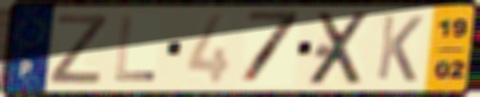4: (184, 11, 233, 86)
7: (243, 9, 304, 89)
K: (373, 13, 426, 85)
L: (111, 14, 158, 84)
X: (305, 9, 375, 88)
Z: (46, 12, 111, 86)
